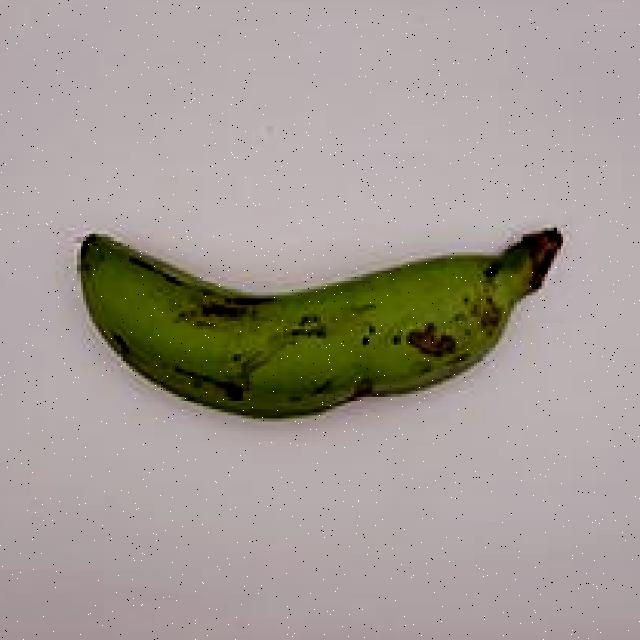Raw: (38, 176, 580, 426)
